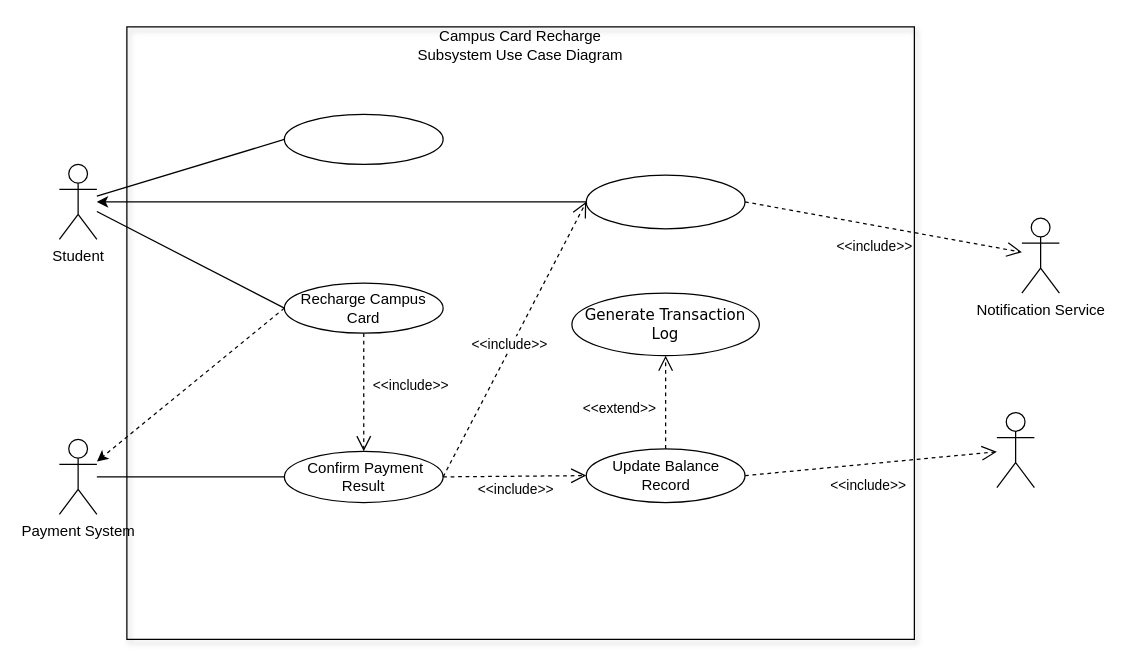
The diagram is 1126 pixels wide and 670 high, and some of its shapes have lost their labels. Each missing label, with the centre of its shape:
"Send Recharge Notification" goes at pixel 665 201.
"University Financial System" goes at pixel 1015 449.
"View Campus Card Balance" goes at pixel 363 138.
